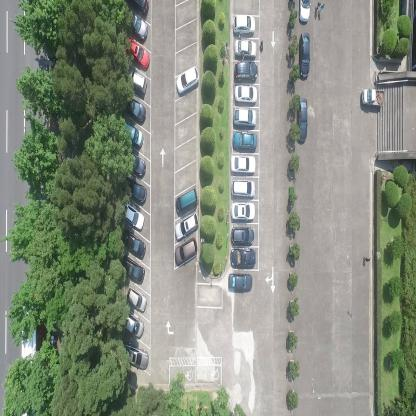car: (125, 36, 150, 70), (122, 340, 149, 370), (176, 63, 199, 96), (174, 236, 197, 268), (121, 228, 145, 258), (175, 211, 199, 240), (124, 176, 147, 205), (126, 9, 146, 42), (295, 96, 308, 146), (122, 255, 145, 283), (176, 186, 198, 215), (122, 202, 144, 230), (298, 31, 310, 80), (121, 312, 144, 337), (124, 98, 146, 124), (126, 286, 147, 313), (126, 149, 146, 177), (231, 201, 256, 223), (230, 154, 256, 175), (127, 69, 148, 95), (232, 12, 255, 35), (231, 131, 258, 150), (230, 249, 257, 268), (362, 86, 384, 109), (233, 106, 256, 128), (123, 123, 144, 147), (230, 179, 256, 198), (234, 61, 257, 82), (234, 38, 257, 58), (235, 84, 258, 104), (230, 227, 254, 246), (228, 274, 253, 292), (126, 0, 148, 20), (298, 0, 310, 23)
